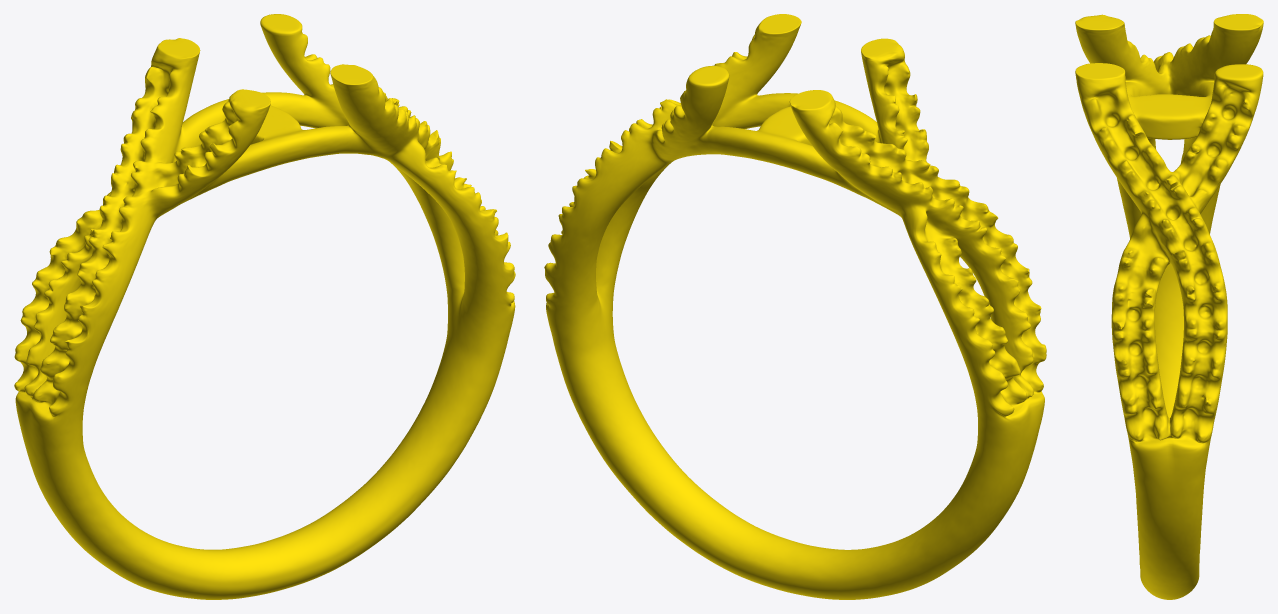
Rendered from Shank_Twist_U Prong_A_Single Halo_Band.glb.
3 views of the same model, side by side, from view 1: azimuth 30°, elevation 25°; view 2: azimuth 150°, elevation 25°; view 3: azimuth 270°, elevation 25° (orthographic).
Size of the model in its own units: 0.0214 by 0.0227 by 0.00736.
